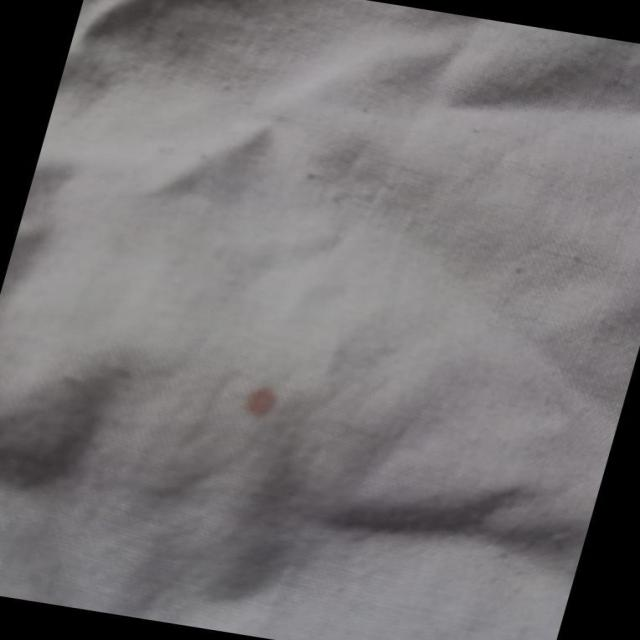stain: (220, 371, 304, 432)
